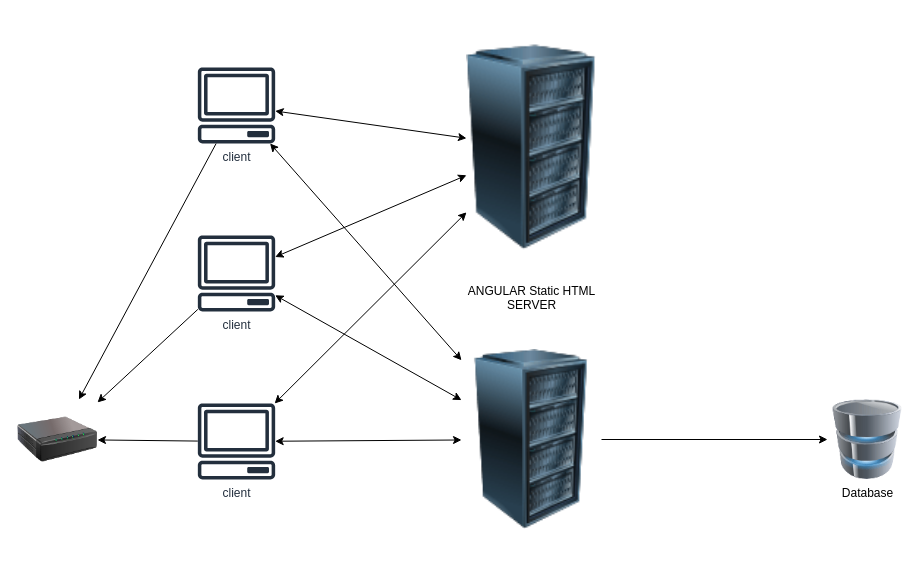
Image size: 924x582. Some labels were removed from this diagram. The shapes that lost their labels are listed below. From the top down, each one's centre as x and y in pixels, then its label:
[57,439]: print server
[531,439]: Apache Tomcat Backend Server
